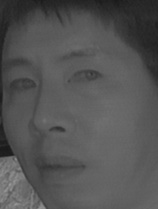eye: (66, 68, 106, 88), (8, 75, 37, 93)
mouth: (31, 149, 89, 186)
